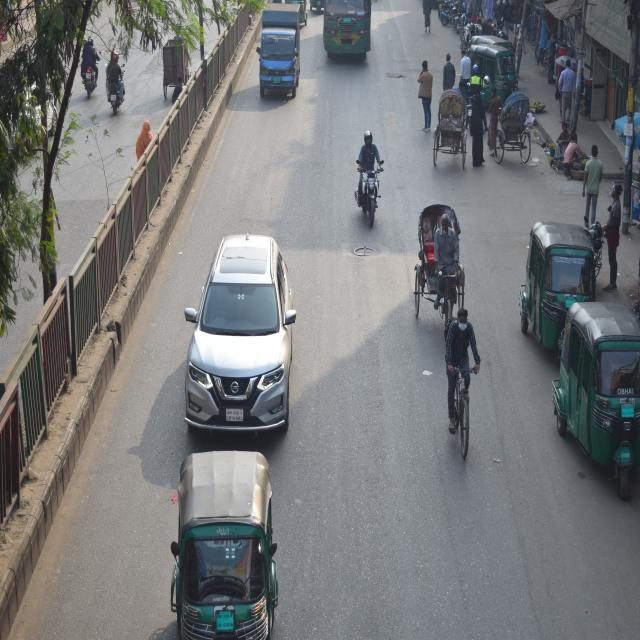bus: (323, 0, 373, 70)
car: (173, 232, 300, 444)
motorbike: (352, 129, 388, 227), (104, 44, 134, 118), (582, 210, 616, 267), (75, 38, 98, 100), (437, 0, 463, 25)
pickup-van: (252, 5, 306, 106)
